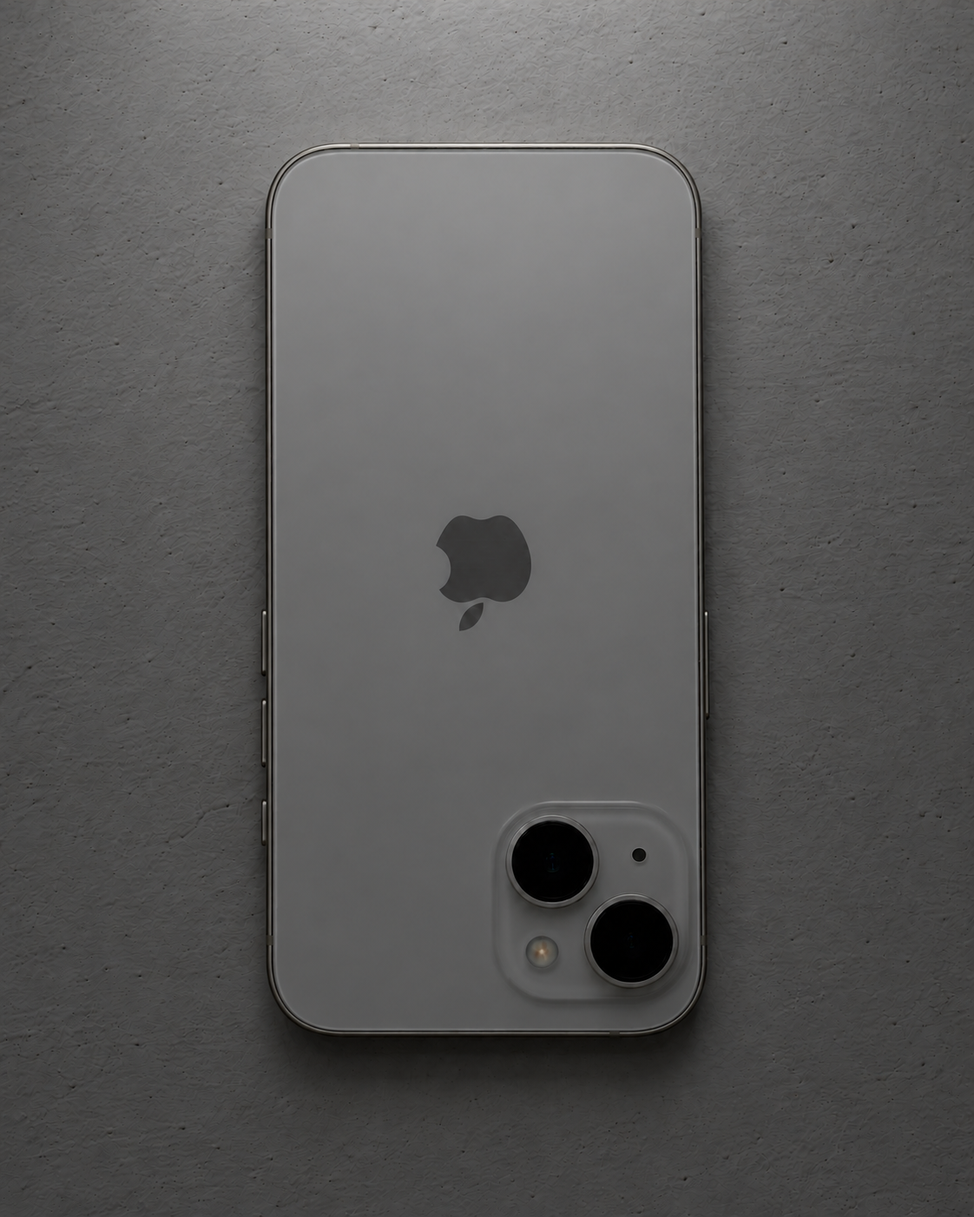iphone_14_white: (205, 96, 765, 1085), (502, 790, 697, 1014)
